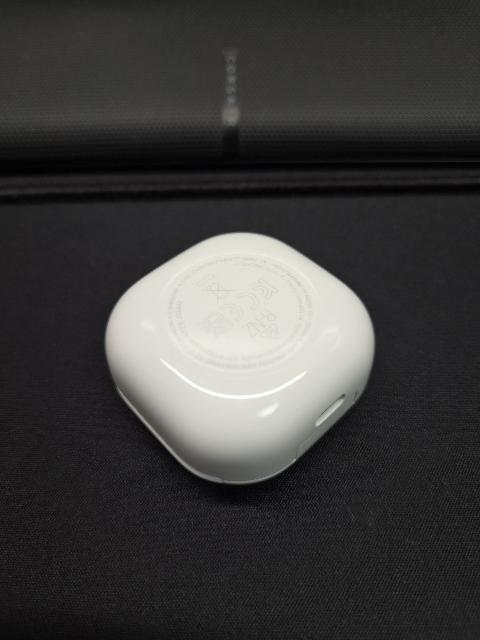earphone_case: (105, 232, 375, 484)
